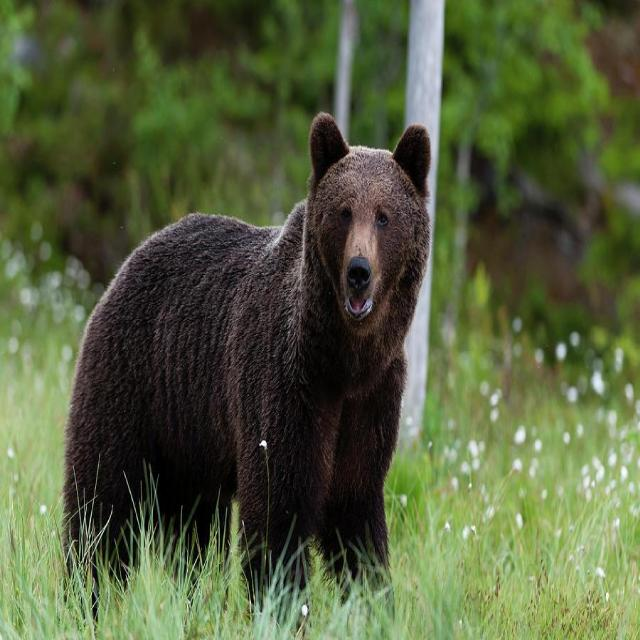Bear: (63, 113, 436, 594)
